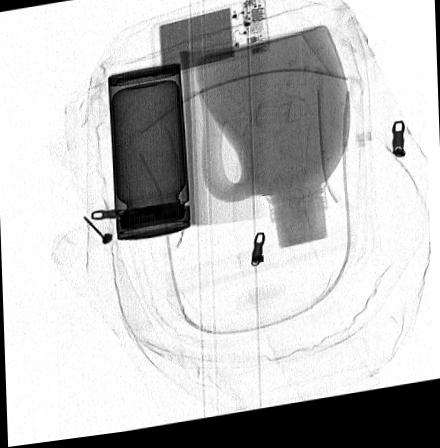Powerbank: (148, 2, 269, 84)
